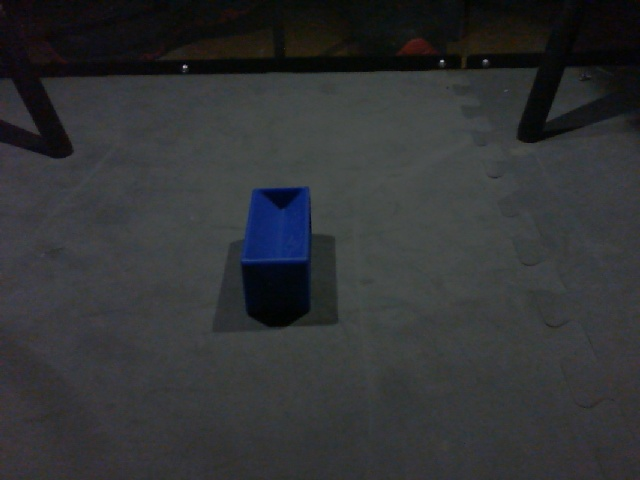BlueSample: (238, 181, 315, 323)
